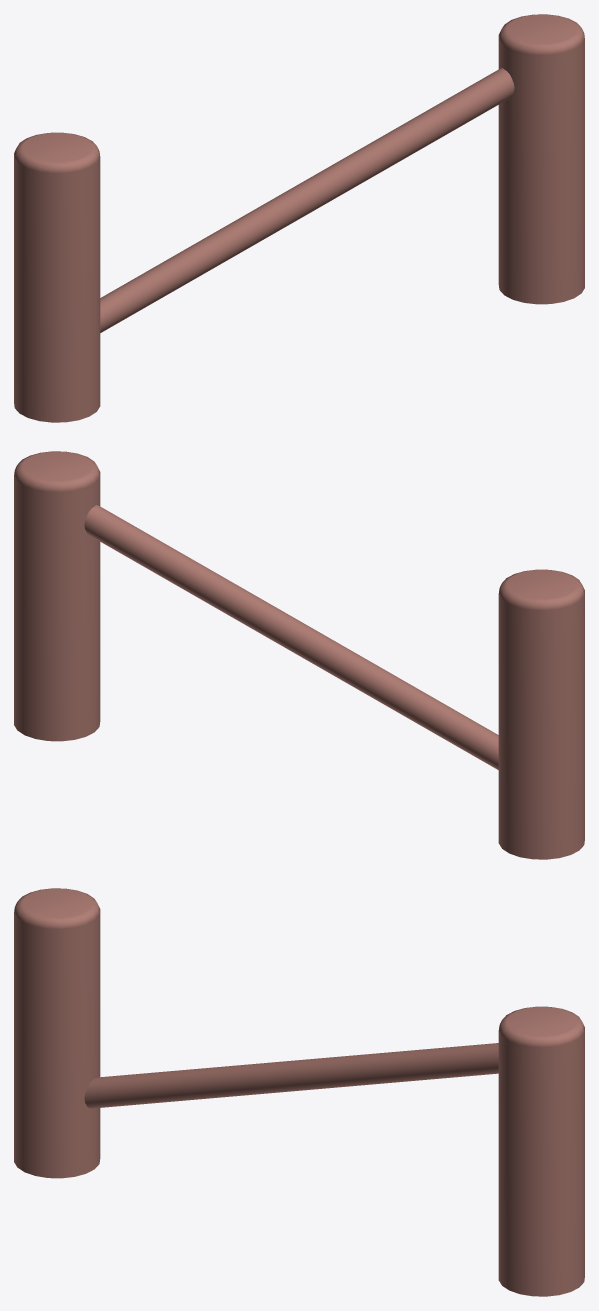
Rendered from Obstacle_Jump_B.fbx.
3 views of the same model, one above another, from view 1: azimuth 30°, elevation 25°; view 2: azimuth 150°, elevation 25°; view 3: azimuth 330°, elevation 25° (orthographic).
Parts seen in each view (by area): view 1: Obstacle_Jump_B; view 2: Obstacle_Jump_B; view 3: Obstacle_Jump_B.
Part boxes in pixels (x1,y1,x2,y2): Obstacle_Jump_B: (14,14,584,422); Obstacle_Jump_B: (14,451,584,859); Obstacle_Jump_B: (14,888,584,1296).
Size of the model in its own units: 236 by 104 by 31.71.
